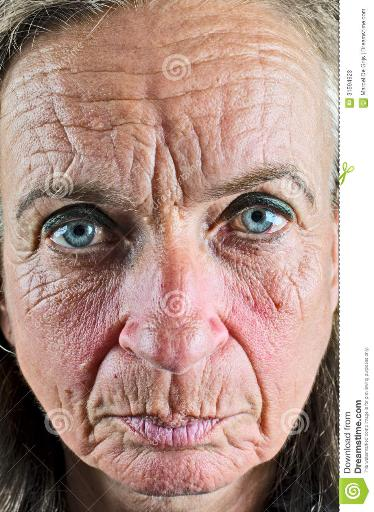left_eye: (209, 199, 299, 246)
left_lip_corner: (212, 407, 255, 432)
right_eye: (44, 212, 126, 252)
right_lip_corner: (91, 401, 129, 429)
